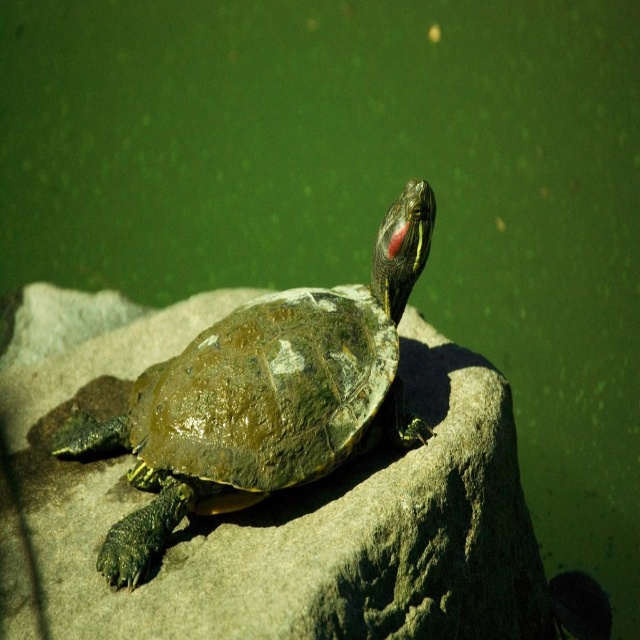Sea turtle: (47, 174, 439, 594)
